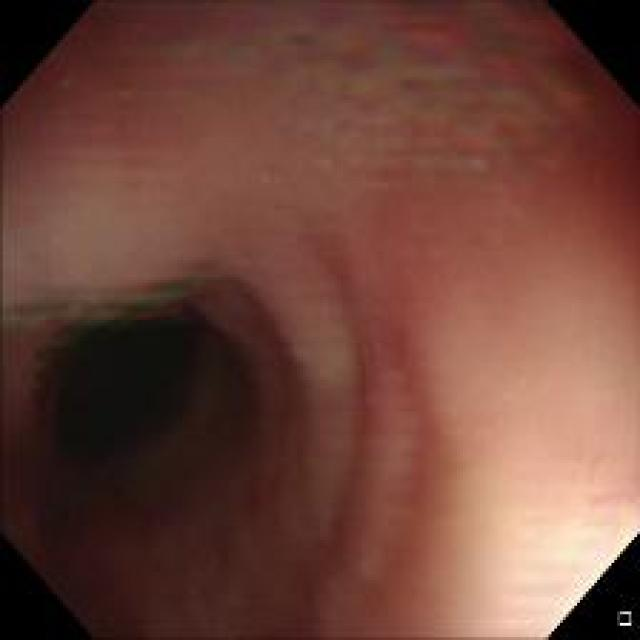blur: (270, 5, 635, 636)
color misalignment: (151, 8, 584, 168), (2, 274, 221, 335)
contrast: (35, 272, 286, 576)
saturation: (511, 504, 636, 628)
